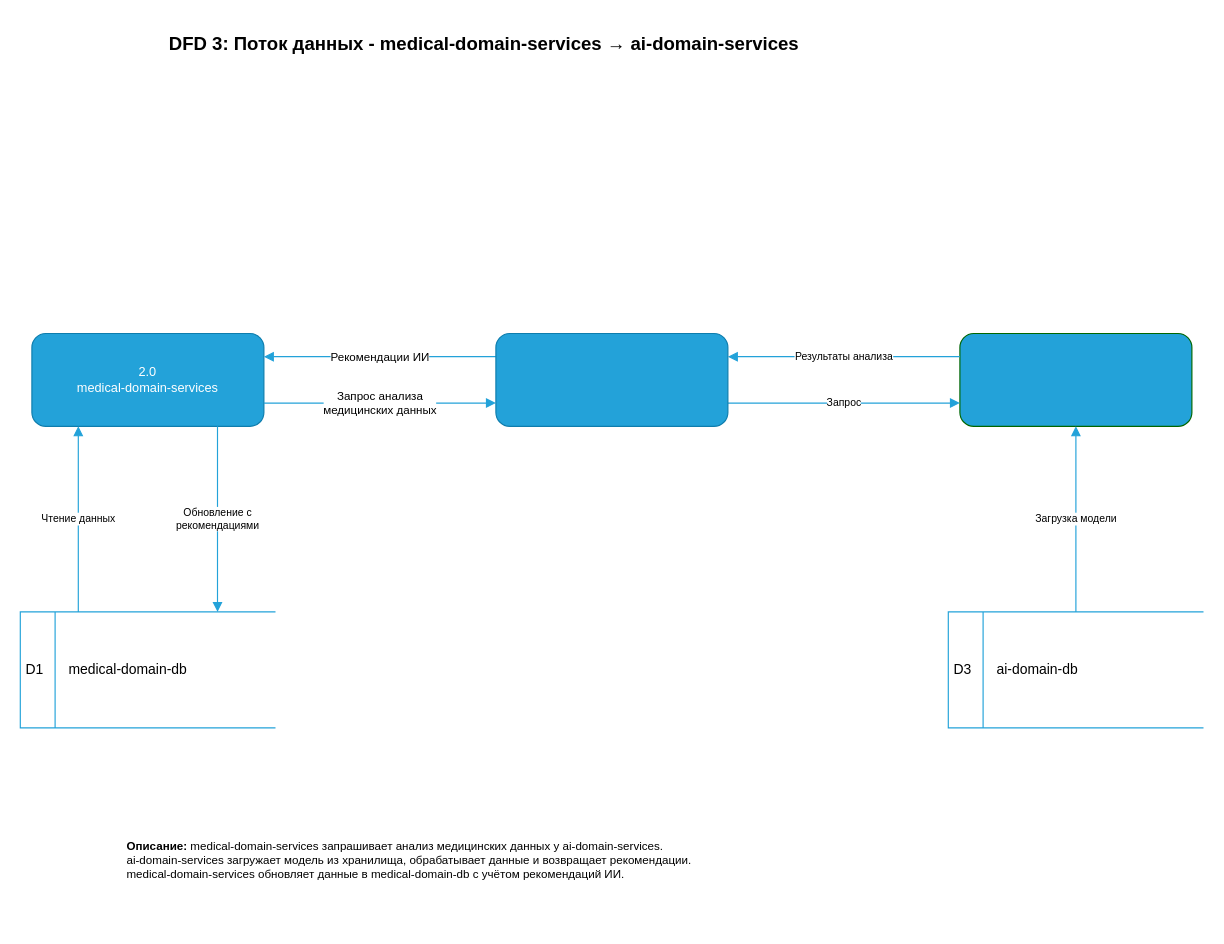
This 1224x944 diagram has some shape labels left out. The shapes that lost their labels are listed below. From the top down, each one's centre as x and y in pixels, then its label:
(611,379): 1.0 future-api-gateway
(1075,379): 4.0 ai-domain-services
